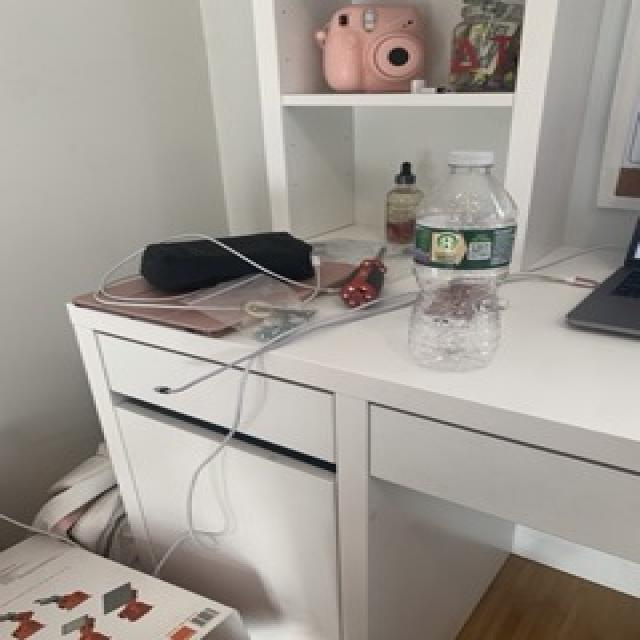water_bottle: (404, 146, 524, 384)
